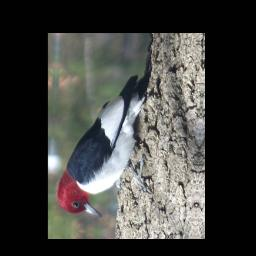Woodpecker: (55, 65, 162, 222)
